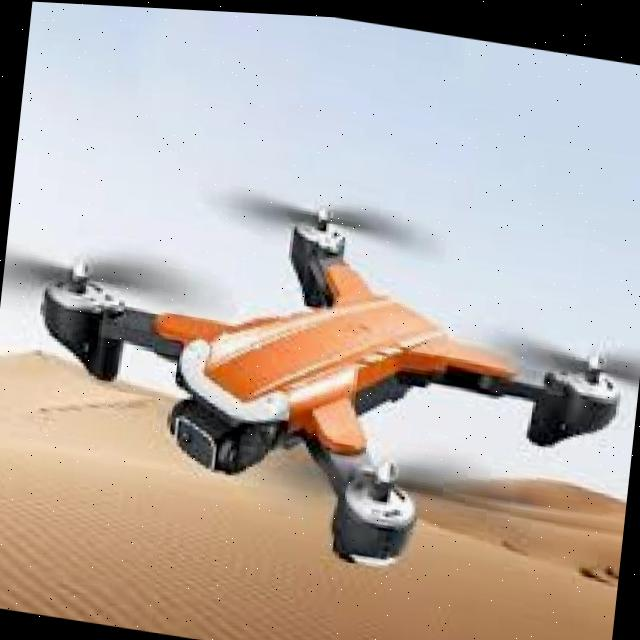drone: (0, 111, 640, 598)
